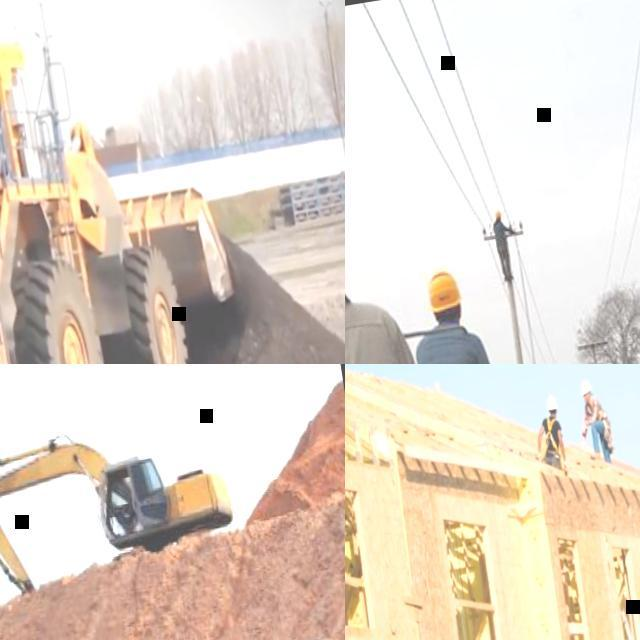Helmet: (424, 268, 472, 315), (547, 393, 565, 419), (573, 383, 601, 398), (483, 205, 507, 218)
Robbery: (472, 186, 558, 318), (412, 259, 498, 390), (338, 266, 418, 384), (524, 383, 584, 477), (576, 381, 631, 476)
